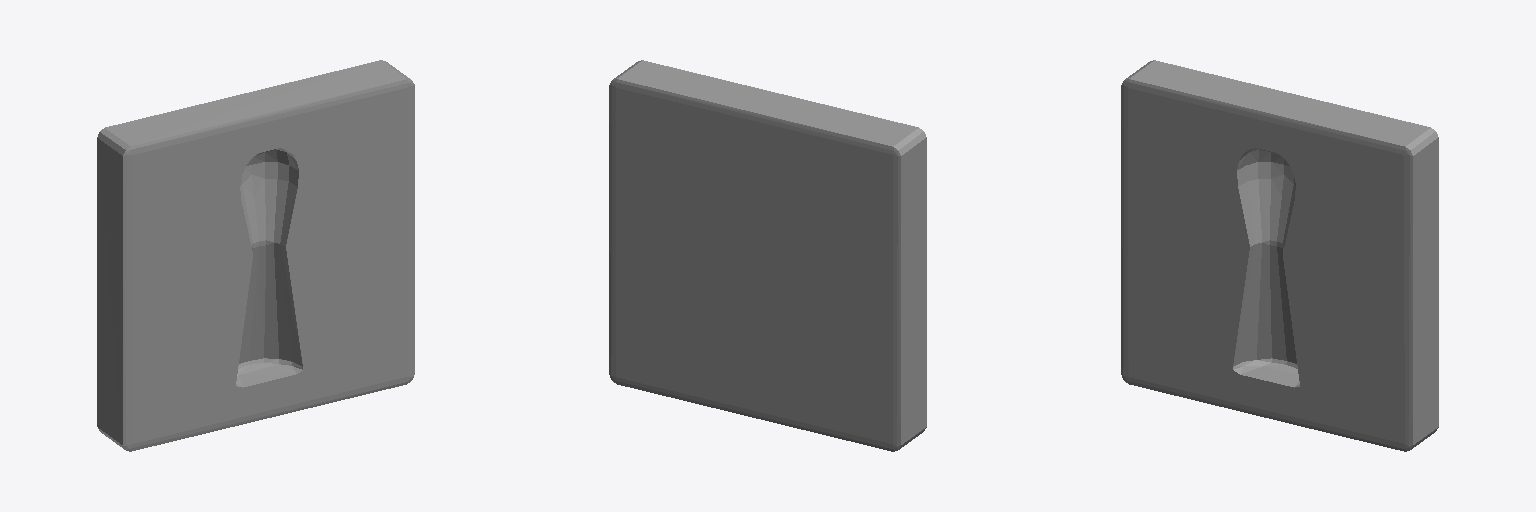
3 renders of one model, left to right at view 1: azimuth 30°, elevation 25°; view 2: azimuth 150°, elevation 25°; view 3: azimuth 330°, elevation 25°, orthographic.
Parts seen in each view (by area): view 1: 南京錠; view 2: 南京錠; view 3: 南京錠.
Boxes of the visible parts, x1=… form: 南京錠: x1=97, y1=60, x2=414, y2=451; 南京錠: x1=609, y1=60, x2=926, y2=451; 南京錠: x1=1121, y1=60, x2=1438, y2=451.
Size of the model in its own units: 0.3008 by 0.3008 by 0.0486.
Materials: 1 (1 with a texture image).